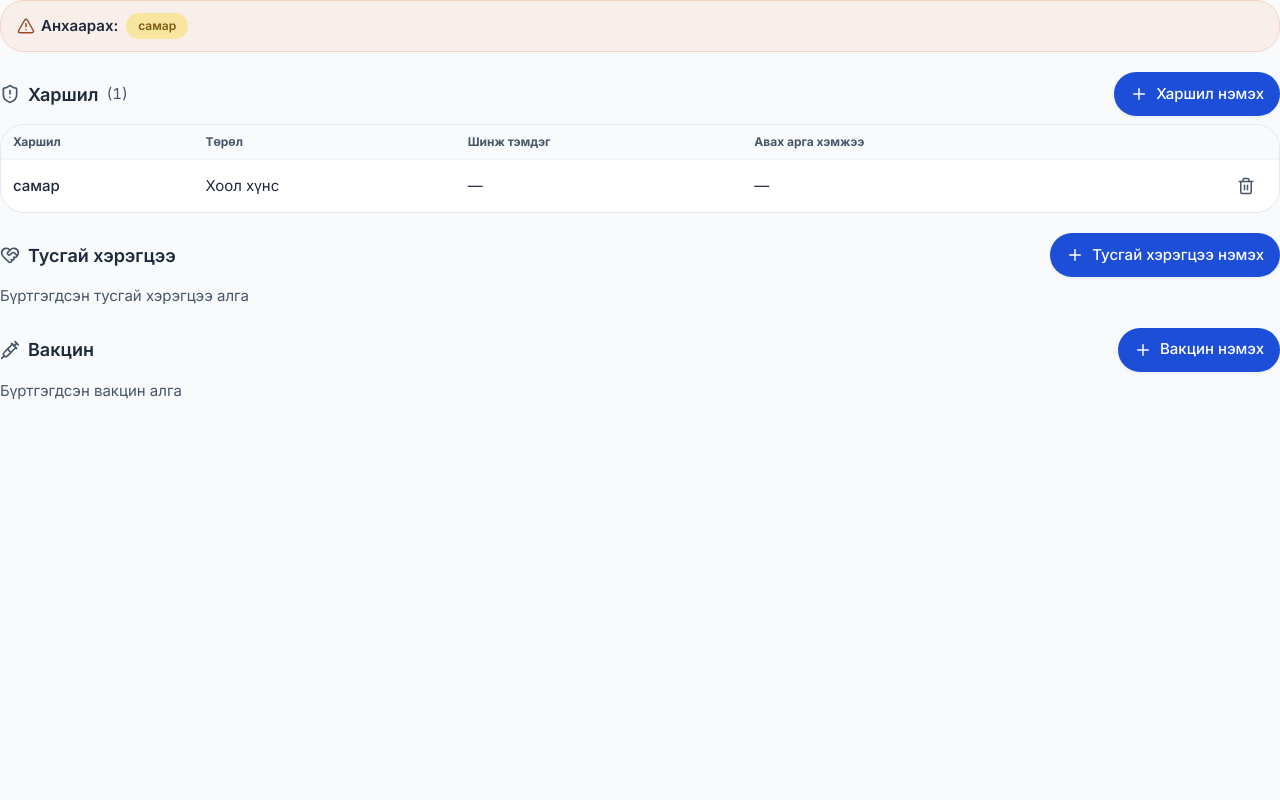
Test: устгах — харшил › opens a confirmation that names the record
What coordinates should you click on to do the following:
click the button named "самар — устгах"
I would click on:
 (1246, 186)
Its box is x1=1221 y1=164 x2=1271 y2=208.
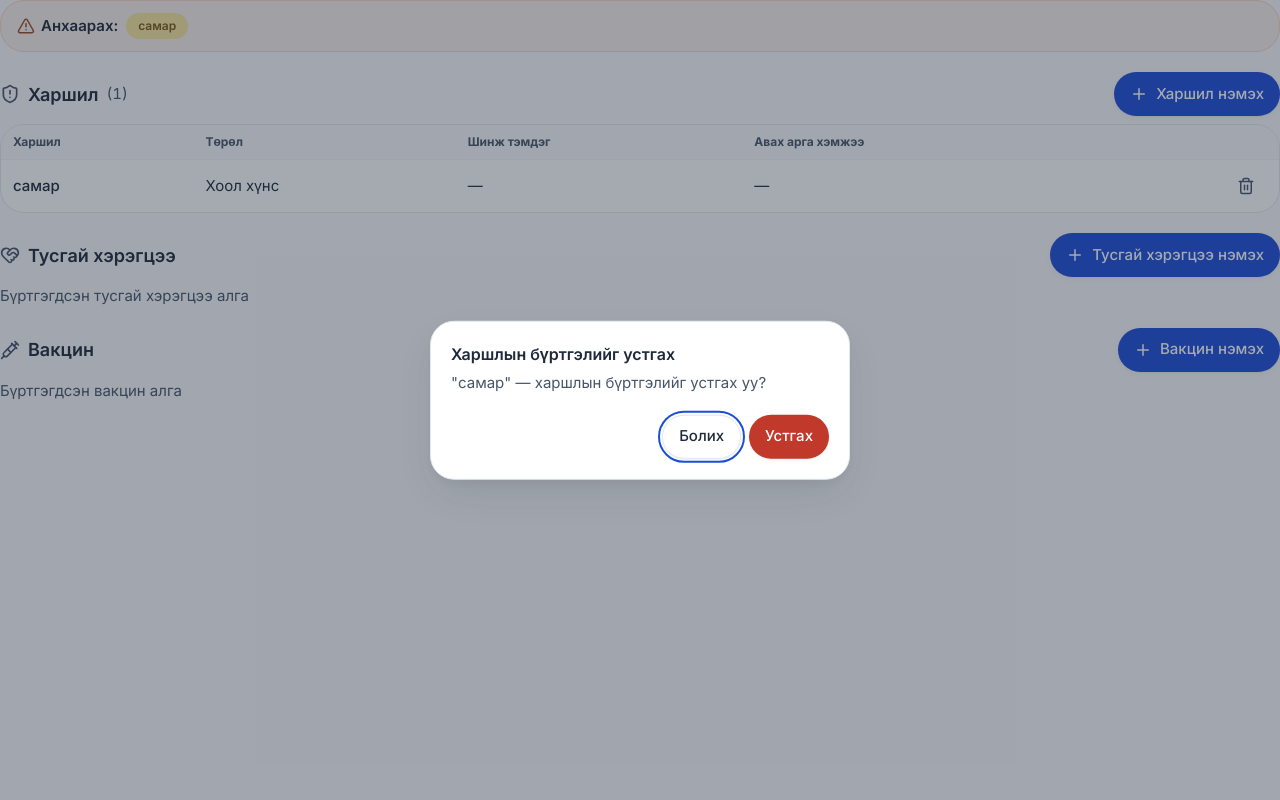
Expected: the text "\"самар\" — харшлын бүртгэлийг устгах уу?" is shown, x1=451 y1=373 x2=766 y2=392
